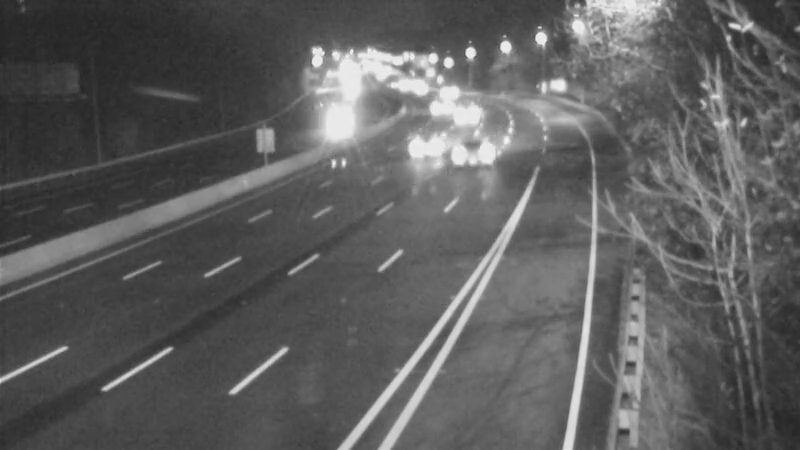vehicle: (437, 114, 517, 194), (422, 65, 472, 115), (410, 82, 460, 132), (436, 99, 486, 149), (392, 123, 442, 173), (326, 93, 376, 143)
